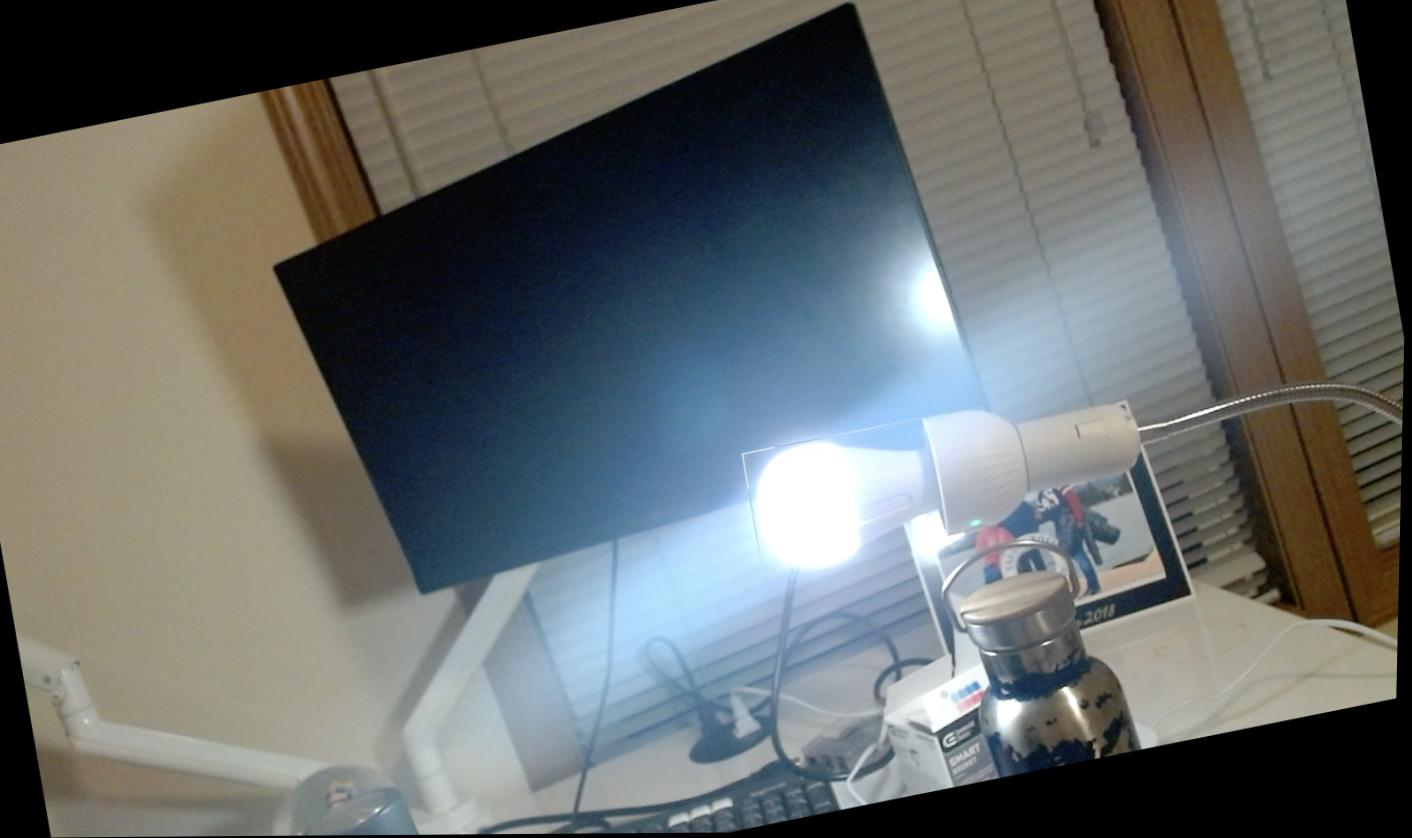TubeLight: (740, 417, 947, 582)
